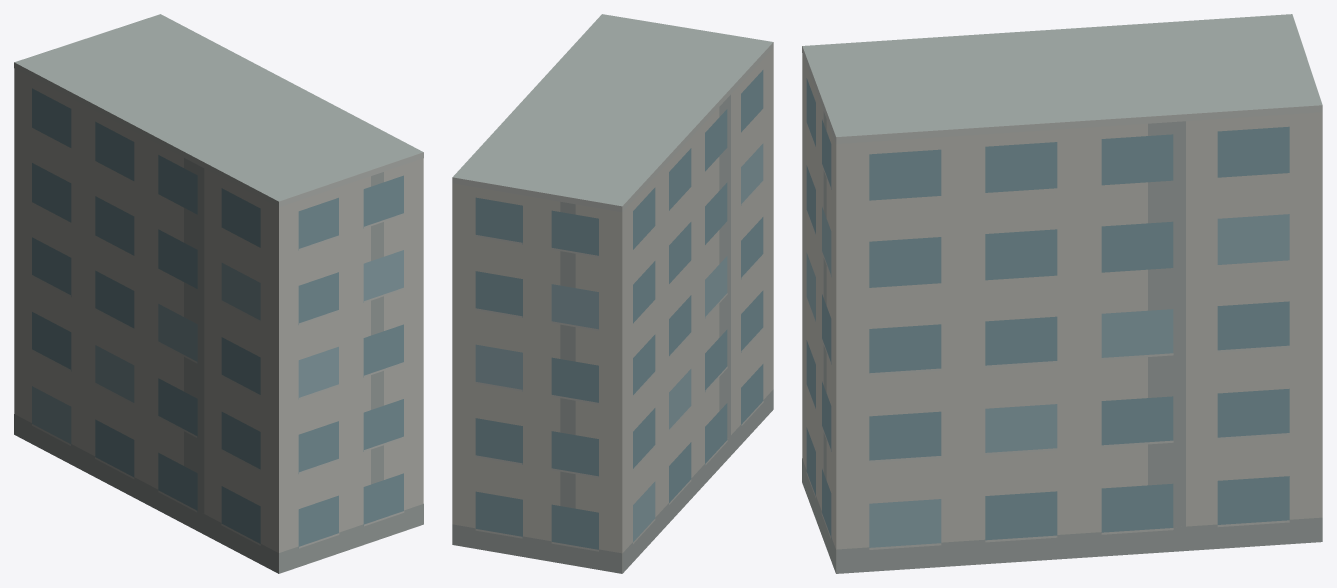
The model's file is survey-upis-33036406.glb.
3 views of the same model, side by side, from view 1: azimuth 30°, elevation 25°; view 2: azimuth 150°, elevation 25°; view 3: azimuth 270°, elevation 25° (orthographic). The views are drawn at different scales.
Parts seen in each view (by area): view 1: survey-upis-33036406.tmp; view 2: survey-upis-33036406.tmp; view 3: survey-upis-33036406.tmp.
Part boxes in pixels (x1,y1,x2,y2): survey-upis-33036406.tmp: (14,14,423,573); survey-upis-33036406.tmp: (452,14,773,573); survey-upis-33036406.tmp: (802,14,1322,573).
Bounding box in the file's own units: 9.14 × 15.1 × 16.32.
